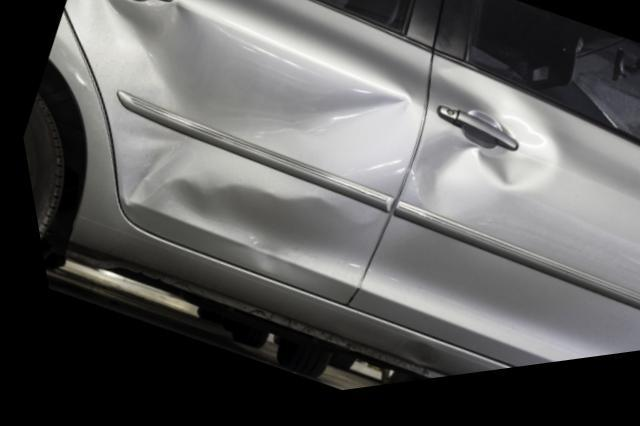dent: (79, 0, 406, 281), (409, 81, 548, 237), (390, 349, 427, 381)
